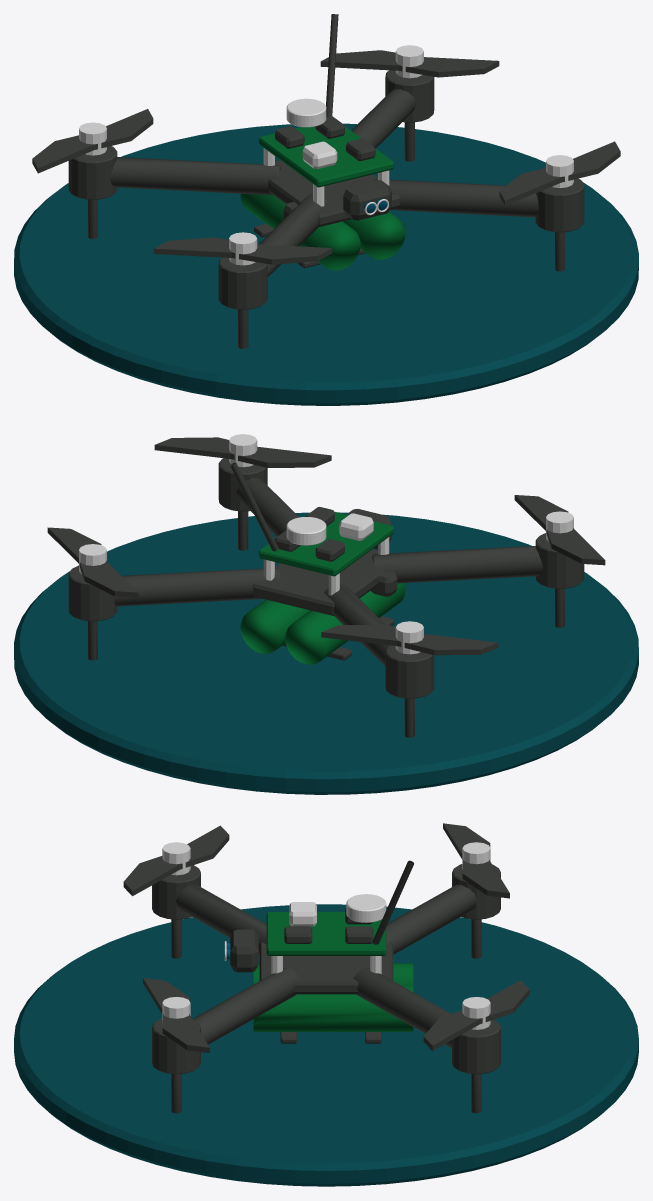
Rendered from modalai-starling-2.glb.
3 views of the same model, one above another, from view 1: azimuth 30°, elevation 25°; view 2: azimuth 150°, elevation 25°; view 3: azimuth 270°, elevation 25° (orthographic).
Visible parts, largest first — view 1: pedestal, body; view 2: pedestal, body; view 3: pedestal, body.
Part boxes in pixels (box(x1,y1,x2,y2)): pedestal: box(14, 123, 638, 405); body: box(32, 14, 620, 348); pedestal: box(14, 512, 638, 794); body: box(47, 434, 605, 737); pedestal: box(14, 904, 638, 1186); body: box(123, 823, 529, 1113).
Size of the model in its own units: 4.4 by 1.71 by 4.4.
